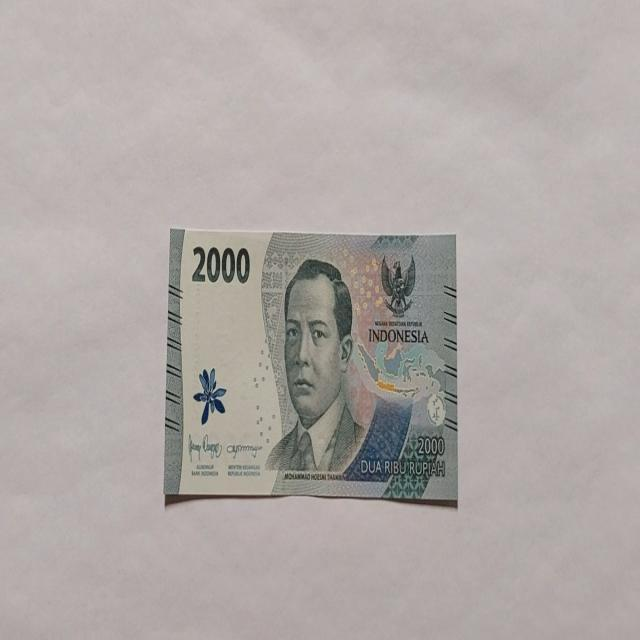dua ribu rupiah: (164, 226, 458, 505), (264, 257, 368, 480)
